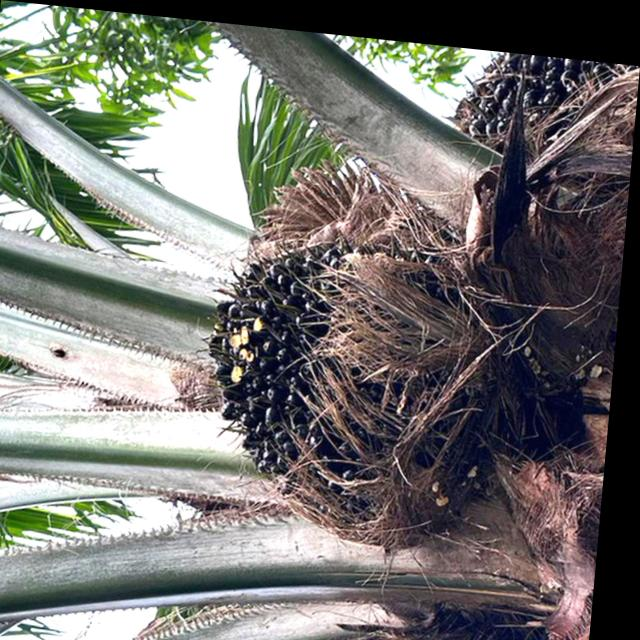unripe: (187, 206, 528, 546)
